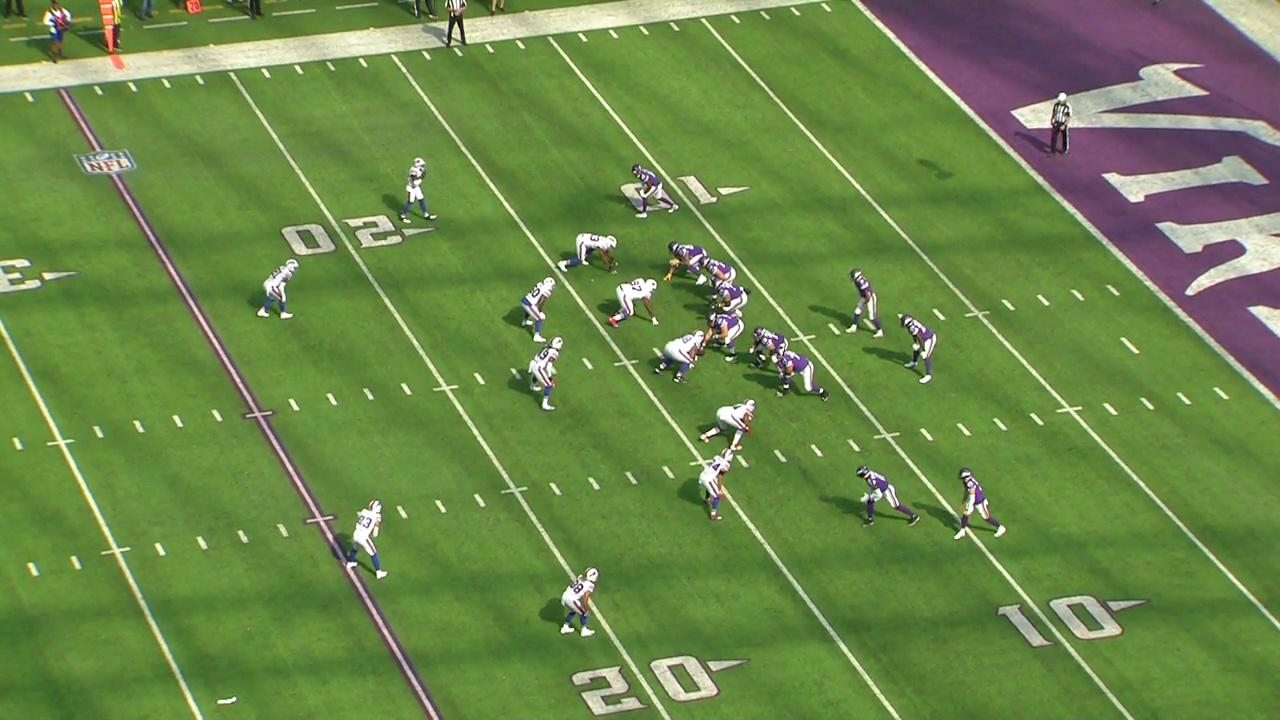defense: (343, 491, 391, 580), (561, 565, 602, 642), (253, 255, 300, 322), (698, 398, 756, 449), (528, 335, 564, 416), (699, 447, 736, 524), (656, 328, 706, 383), (607, 275, 657, 328), (557, 231, 619, 273), (519, 275, 556, 342), (400, 156, 436, 222)
oline: (772, 348, 828, 400), (696, 312, 744, 357), (746, 324, 786, 367), (711, 278, 748, 310), (697, 256, 737, 285)
qb: (848, 264, 887, 342)
ref: (1043, 93, 1074, 159), (439, 0, 471, 50)
skill: (854, 464, 921, 527), (955, 468, 1006, 540), (900, 311, 937, 386), (629, 163, 679, 218), (666, 236, 705, 283)
